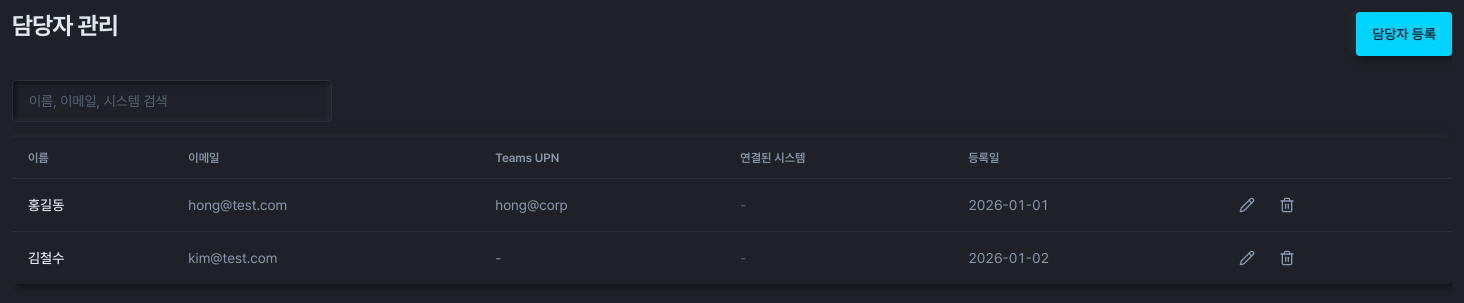
Scenario: ContactListPage › 검색 필터링
The width and height of the screenshot is (1464, 303).
Type "홍" into the field with placeholder "이름, 이메일, 시스템 검색" at (172, 101), box [12,80,332,122]
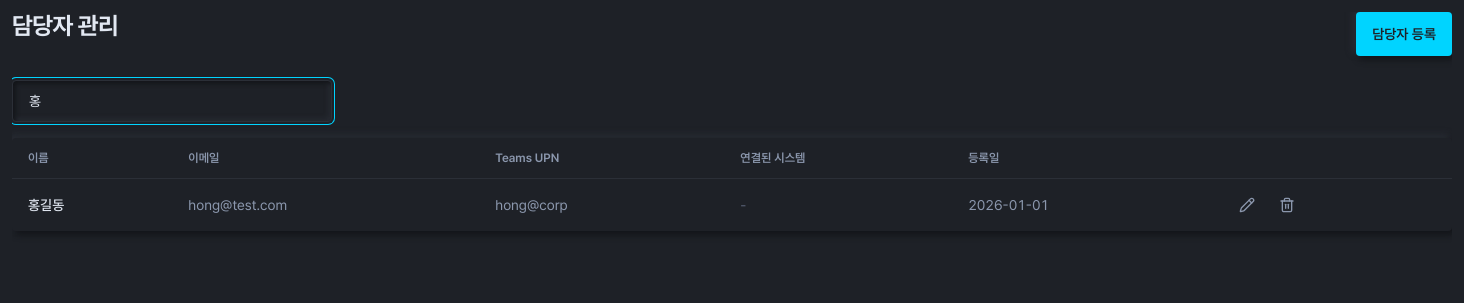
expect the text "홍길동" is shown: met, box [12,178,172,231]
expect the text "김철수" is gone: met
